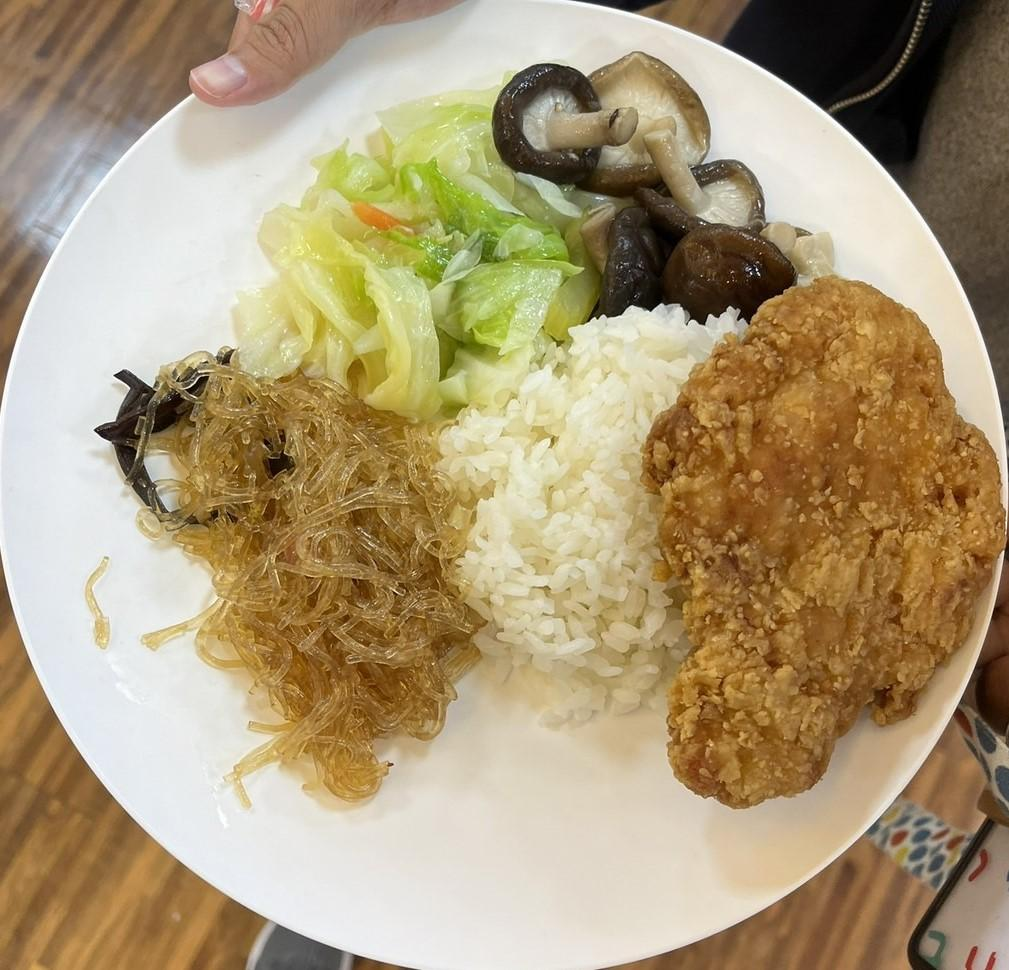big fried chicken leg: (4, 6, 1009, 970)
big herbal chicken leg: (446, 300, 753, 721)
braised fish fillet: (106, 348, 464, 811), (230, 98, 589, 412), (500, 44, 837, 315)
braised pork: (640, 264, 1001, 807)
